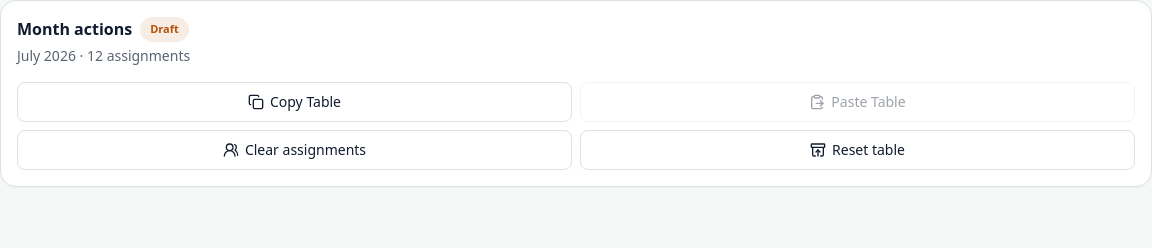
AdminMonthControl › displays the successful operation message returned by the store
The width and height of the screenshot is (1152, 248).
Click the button "Copy Table" at (294, 102), box [17,82,572,122]
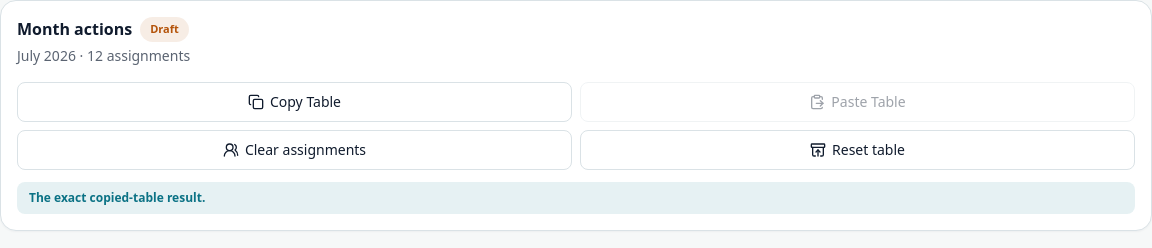
expect the text "The exact copied-table result." is shown: met, box [17,182,1135,214]
